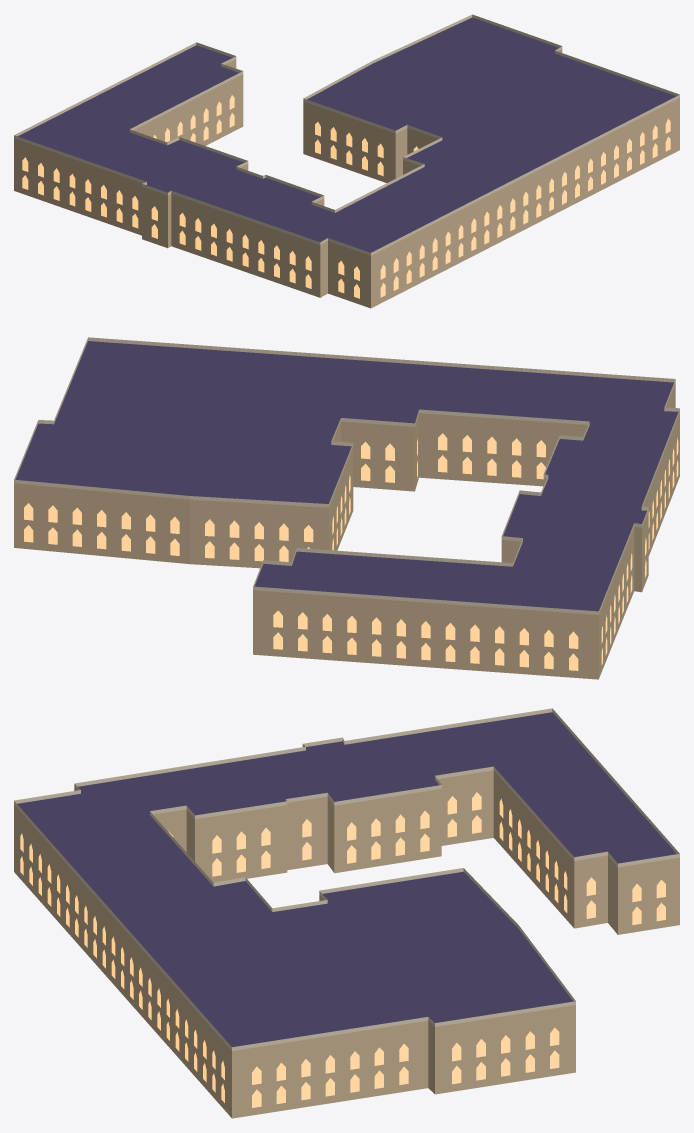
The picture shows the model from 3 angles, top to bottom: view 1: azimuth 30°, elevation 25°; view 2: azimuth 150°, elevation 25°; view 3: azimuth 270°, elevation 25°; orthographic projection. The views are drawn at different scales.
Parts seen in each view (by area): view 1: campus/b-048-0; view 2: campus/b-048-0; view 3: campus/b-048-0.
Boxes of the visible parts, x1,y1,x2,y2 form: campus/b-048-0: (14, 14, 679, 308); campus/b-048-0: (14, 337, 679, 679); campus/b-048-0: (14, 708, 679, 1118).
Size of the model in its own units: 104 by 10.25 by 86.68.
